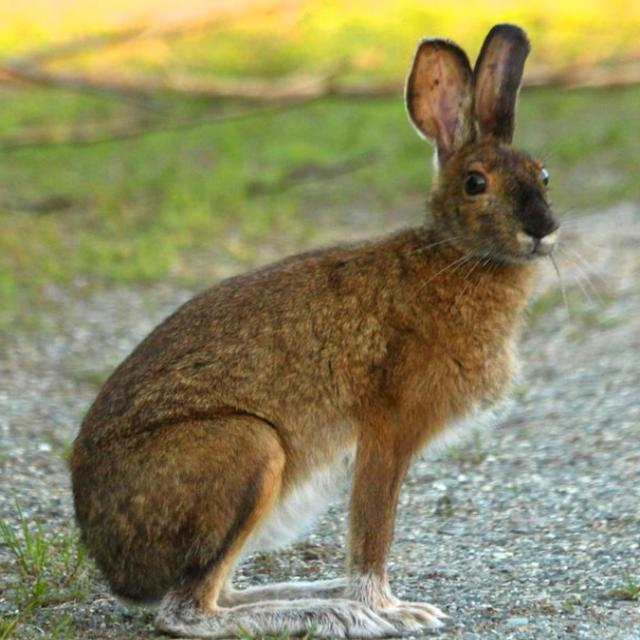hare: (70, 23, 560, 636)
